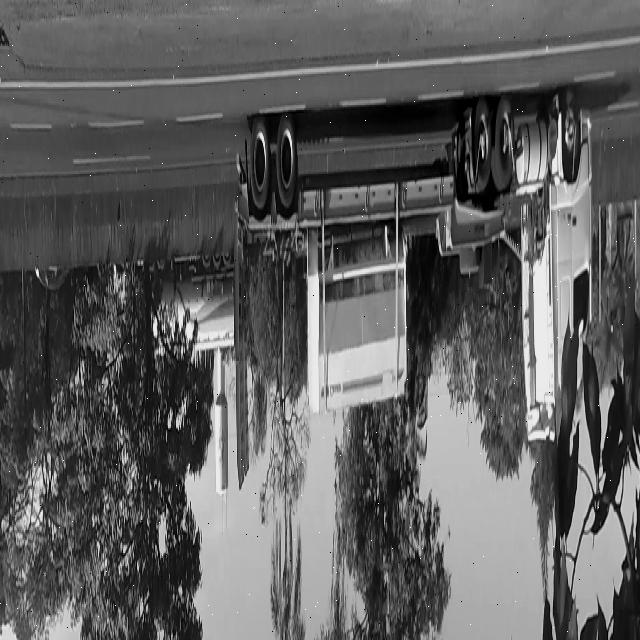-axle: (249, 110, 272, 216), (276, 100, 297, 208), (494, 94, 518, 188), (560, 89, 581, 178), (470, 101, 492, 185)
